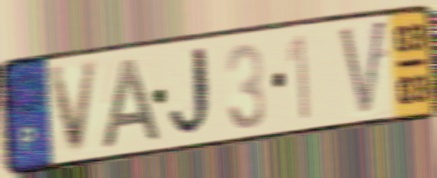1: (286, 30, 313, 125)
3: (224, 39, 267, 131)
A: (99, 54, 166, 151)
J: (167, 42, 218, 142)
V: (46, 57, 103, 159), (336, 14, 389, 120)
